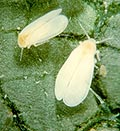whitefly: (53, 22, 114, 108), (16, 8, 69, 62)
